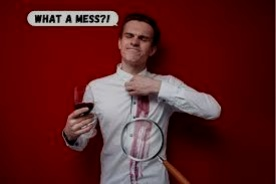wine: (136, 87, 150, 184), (127, 135, 143, 183)
